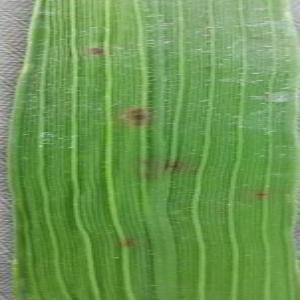Brown_Spot: (119, 102, 153, 129), (113, 234, 142, 253), (160, 156, 186, 177), (83, 41, 108, 61), (251, 187, 271, 200)
